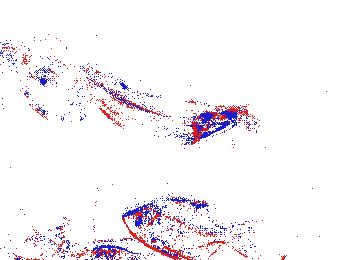X-ray fish: (119, 198, 253, 258)
glassfish: (50, 61, 248, 152)
siberian prawn: (1, 34, 93, 119), (29, 230, 106, 260)
